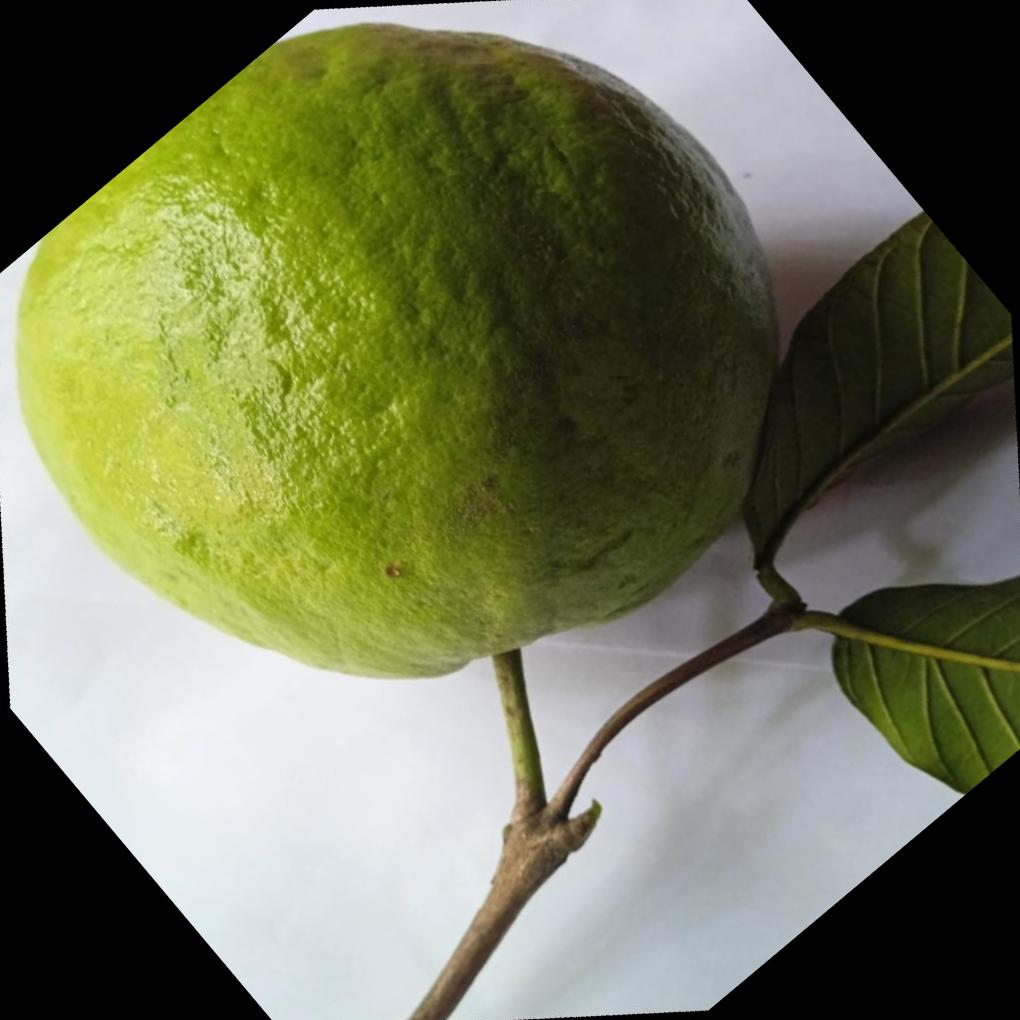FreshGuava: (11, 15, 785, 685)
